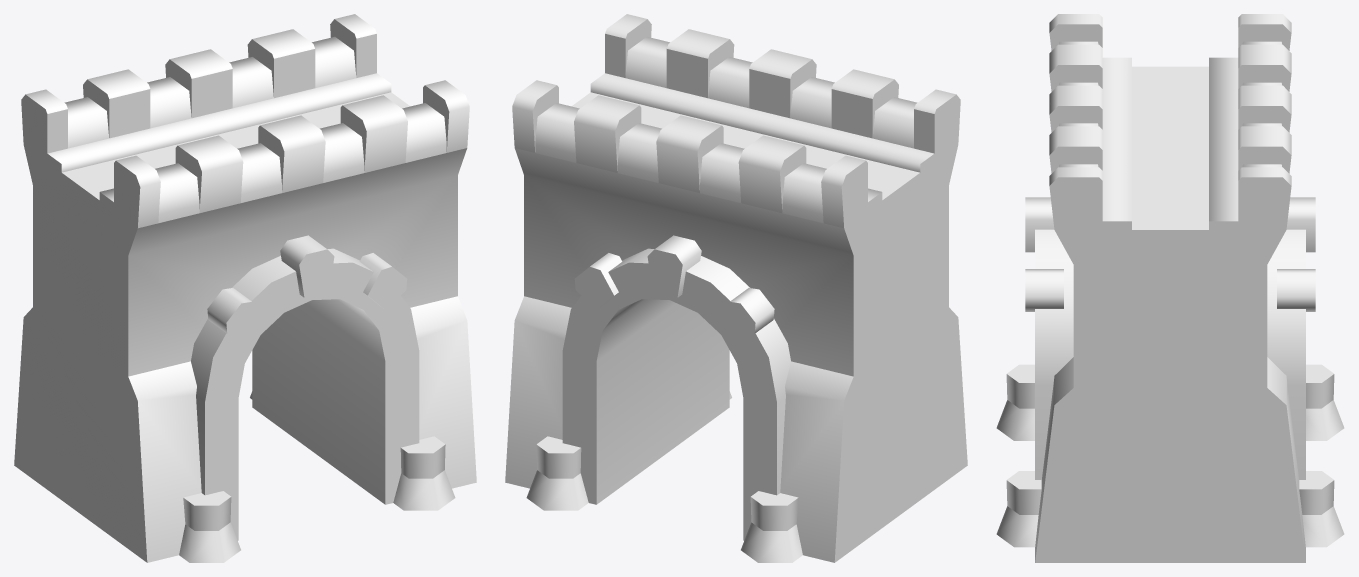
File: castle-gate.glb
3 renders of one model, left to right at view 1: azimuth 30°, elevation 25°; view 2: azimuth 150°, elevation 25°; view 3: azimuth 270°, elevation 25°, orthographic.
Visible parts, largest first — view 1: castle-gate; view 2: castle-gate; view 3: castle-gate.
Boxes of the visible parts, x1,y1,x2,y2 form: castle-gate: (14, 14, 476, 562); castle-gate: (505, 14, 967, 562); castle-gate: (996, 14, 1344, 562).
Size of the model in its own units: 4 by 4.4 by 3.6.
1 material, 1 textured.
